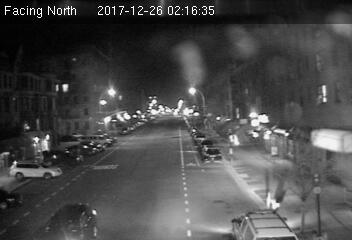car: (201, 148, 223, 164)
truck: (231, 202, 293, 240)
